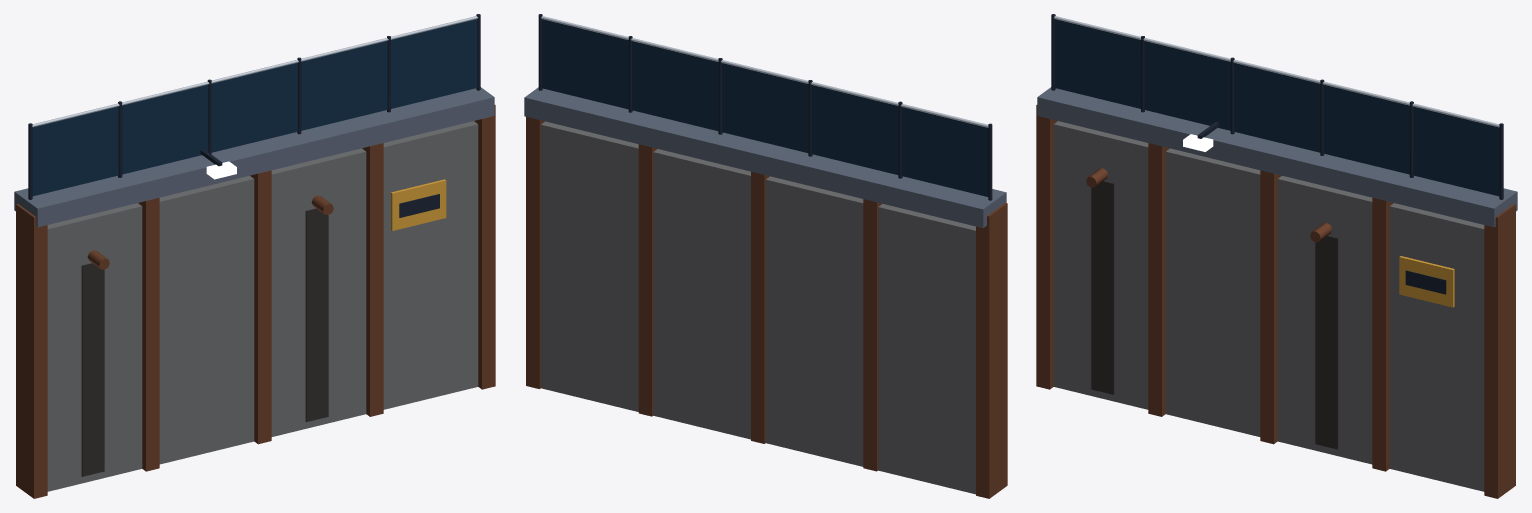
The model's file is switchyard_retainingwall.glb.
The picture shows the model from 3 angles, left to right: view 1: azimuth 30°, elevation 25°; view 2: azimuth 150°, elevation 25°; view 3: azimuth 330°, elevation 25°; orthographic projection.
Parts seen in each view (by area): view 1: rw_fence, rw_panel1, rw_panel3, rw_panel0, rw_panel2, rw_cap, rw_pile0, rw_scupper_stain-3.75, rw_scupper_stain1.25, rw_pile4, rw_pile3, rw_pile2 (+4 smaller); view 2: rw_fence, rw_panel1, rw_panel2, rw_panel3, rw_panel0, rw_cap, rw_pile0, rw_pile1, rw_pile3, rw_pile4, rw_pile2, rw_fence_rail; view 3: rw_fence, rw_panel1, rw_panel3, rw_panel0, rw_panel2, rw_cap, rw_pile4, rw_scupper_stain-3.75, rw_scupper_stain1.25, rw_pile0, rw_pile1, rw_pile2 (+4 smaller).
Part boxes in pixels (<box>): rw_fence: <box>32,19,477,196</box>; rw_panel1: <box>159,175,254,464</box>; rw_panel3: <box>383,121,478,409</box>; rw_panel0: <box>47,203,142,491</box>; rw_panel2: <box>271,148,366,436</box>; rw_cap: <box>14,87,494,227</box>; rw_pile0: <box>16,204,47,498</box>; rw_scupper_stain-3.75: <box>81,263,104,476</box>; rw_scupper_stain1.25: <box>305,208,328,422</box>; rw_pile4: <box>474,105,495,389</box>; rw_pile3: <box>362,143,383,416</box>; rw_pile2: <box>250,170,271,444</box>; rw_fence: <box>542,19,988,196</box>; rw_panel1: <box>765,176,863,466</box>; rw_panel2: <box>653,149,750,439</box>; rw_panel3: <box>541,121,638,411</box>; rw_panel0: <box>878,204,975,494</box>; rw_cap: <box>524,87,1006,227</box>; rw_pile0: <box>976,202,1007,498</box>; rw_pile1: <box>863,199,882,471</box>; rw_pile3: <box>638,144,657,416</box>; rw_pile4: <box>526,117,544,388</box>; rw_pile2: <box>751,171,769,443</box>; rw_fence_rail: <box>541,16,988,127</box>; rw_fence: <box>1054,19,1499,196</box>; rw_panel1: <box>1165,148,1260,436</box>; rw_panel3: <box>1389,203,1484,491</box>; rw_panel0: <box>1053,121,1148,409</box>; rw_panel2: <box>1277,175,1372,464</box>; rw_cap: <box>1037,87,1517,227</box>; rw_pile4: <box>1484,204,1515,498</box>; rw_scupper_stain-3.75: <box>1091,181,1114,394</box>; rw_scupper_stain1.25: <box>1315,235,1338,449</box>; rw_pile0: <box>1036,105,1057,389</box>; rw_pile1: <box>1148,143,1169,416</box>; rw_pile2: <box>1260,170,1281,444</box>.
Size of the model in its own units: 10.3 by 7.8 by 1.5.
